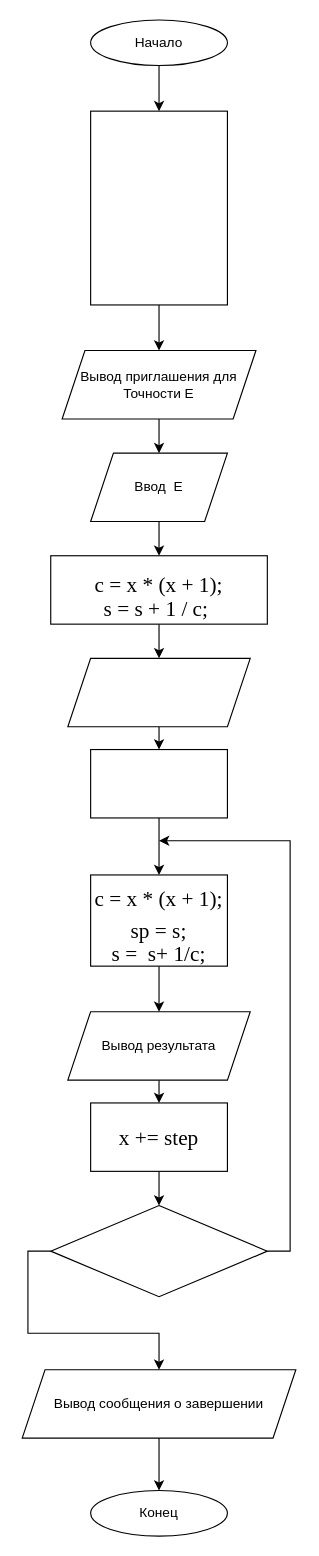
Image size: 319x1556. Some labels were removed from this diagram. Here are the shapes that lost their labels. From the top down, the centre of each, then its label:
At point (158, 207): "s=0; sp = 0; x = 2; step = 1; c = 0;".
At point (158, 692): "Вывод ШАГ, S, SP".
At point (158, 783): "x += step; sp = s;".
At point (158, 1250): "(Math.Abs(sp-s) > e".
